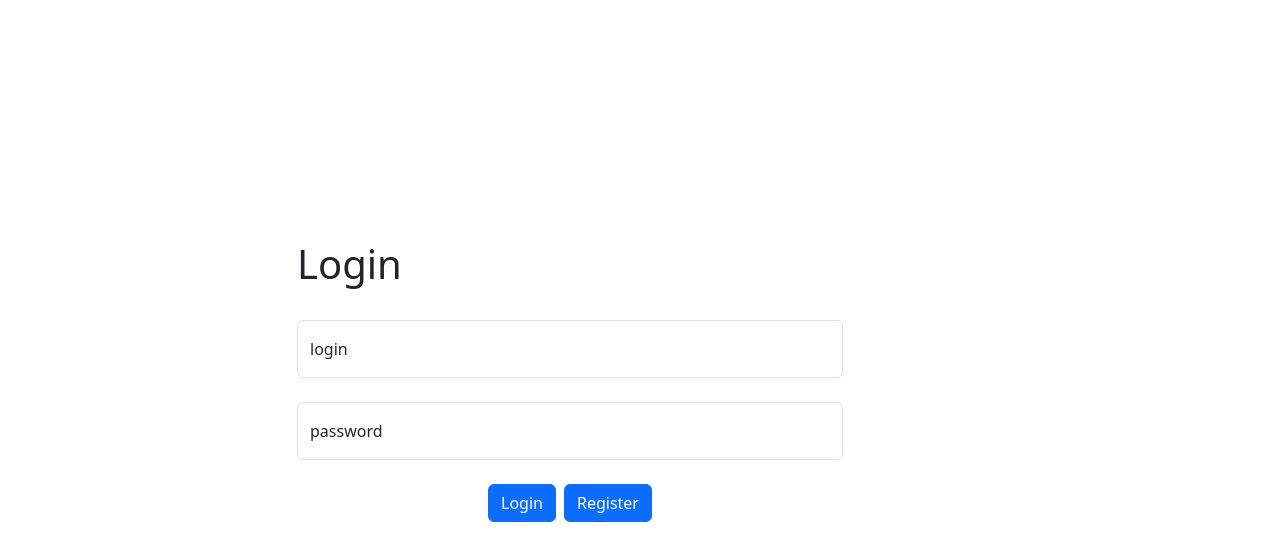
Scenario: Edit animal › login
The width and height of the screenshot is (1280, 539).
Type "Zbyszek" into the field with id "login-login-input". click: [570, 349]
box: [297,320,843,378]
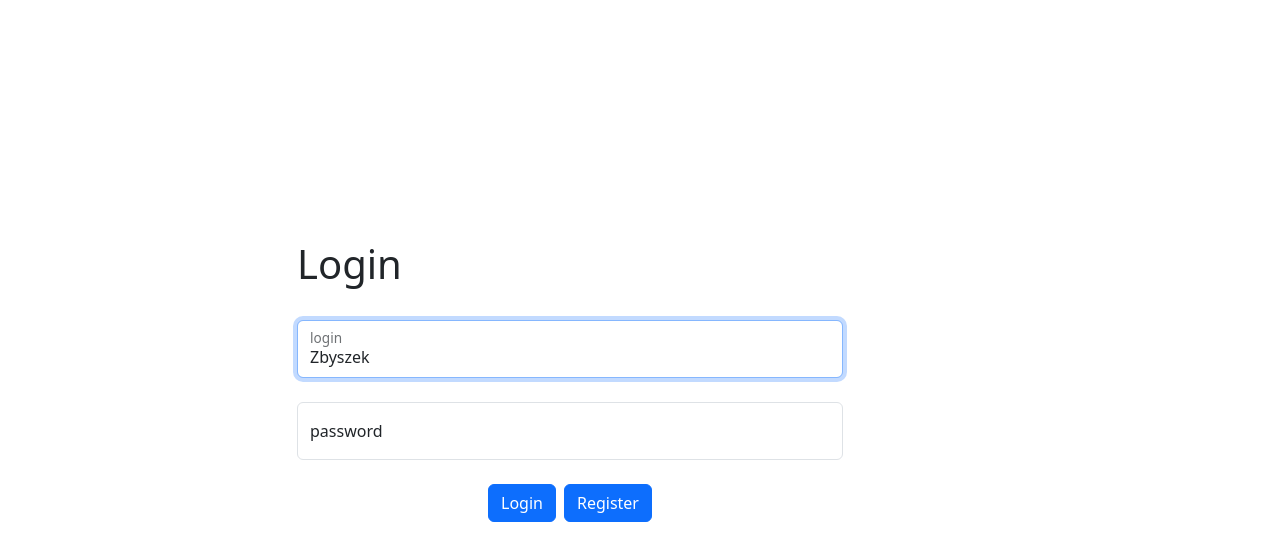
Type "Zbyszek" into the password field with placeholder "password". click: [570, 431]
box: [297,402,843,460]
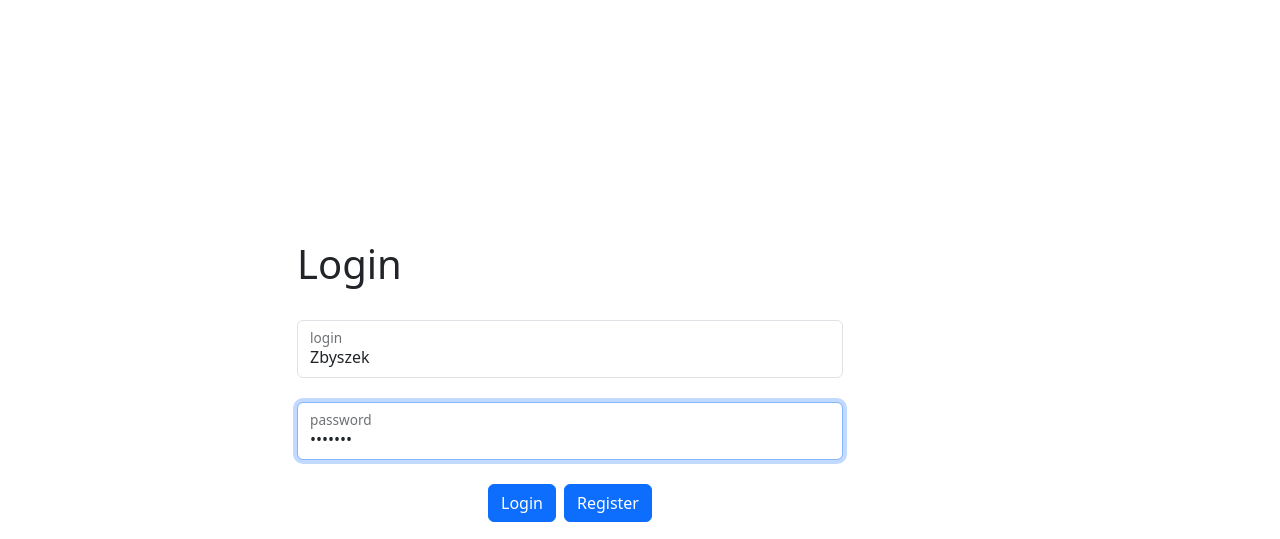
Click the button with id "login-btn". click: [522, 503]
box: [488,484,556,522]
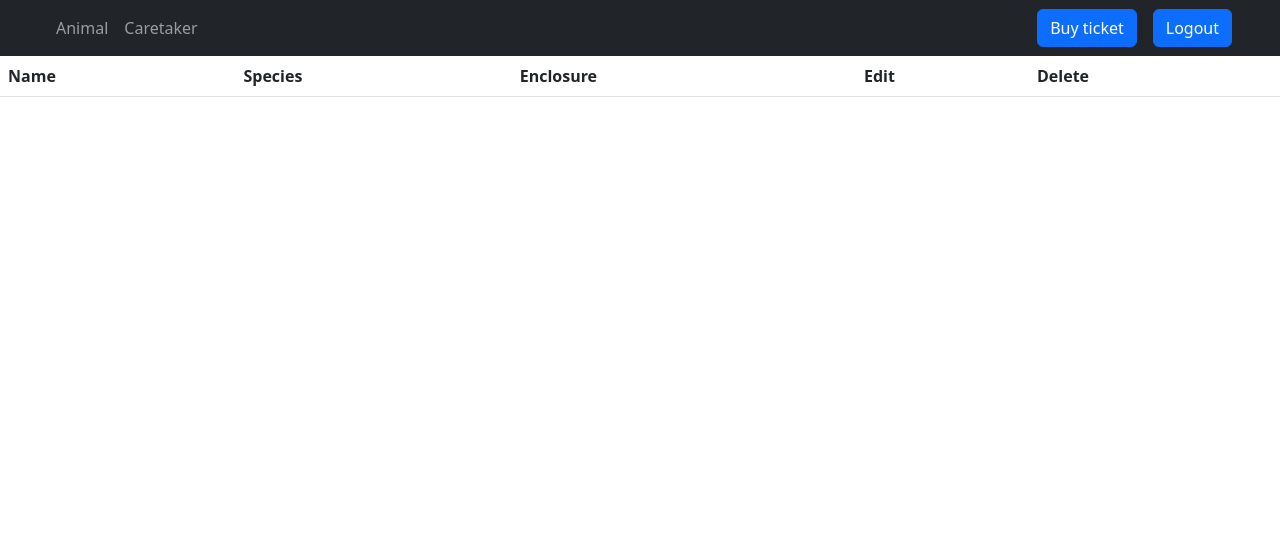
expect the button with id "logout-btn" reads "Logout": met, box [1153,9,1232,47]
